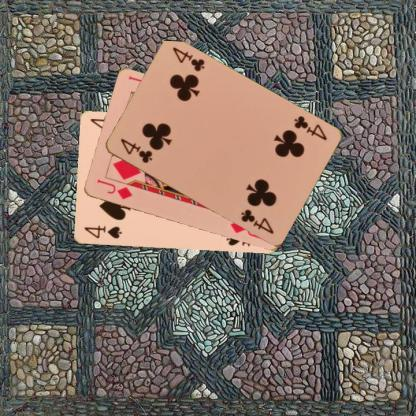4c: (117, 135, 154, 165), (291, 113, 328, 142)
4s: (81, 223, 122, 240)
Jd: (93, 176, 134, 201)
